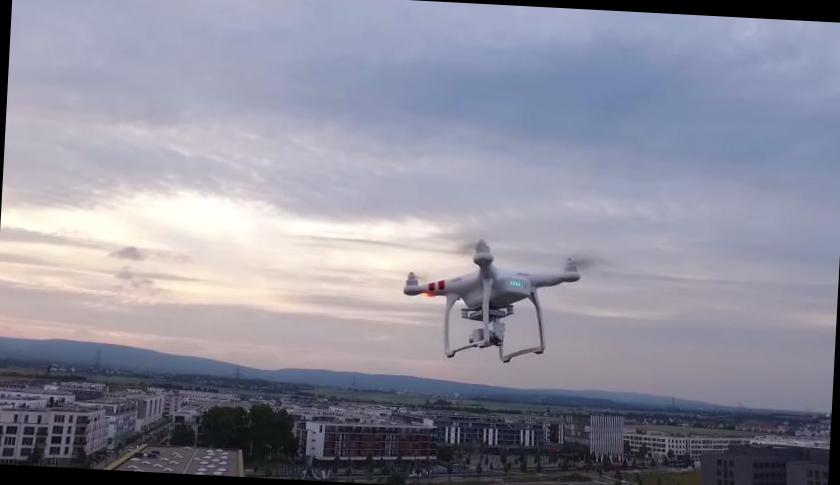drone: (396, 232, 586, 368)
